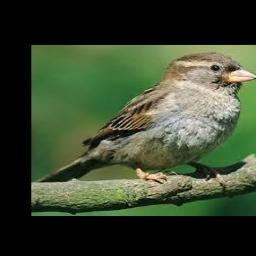Sparrow: (36, 52, 256, 186)
